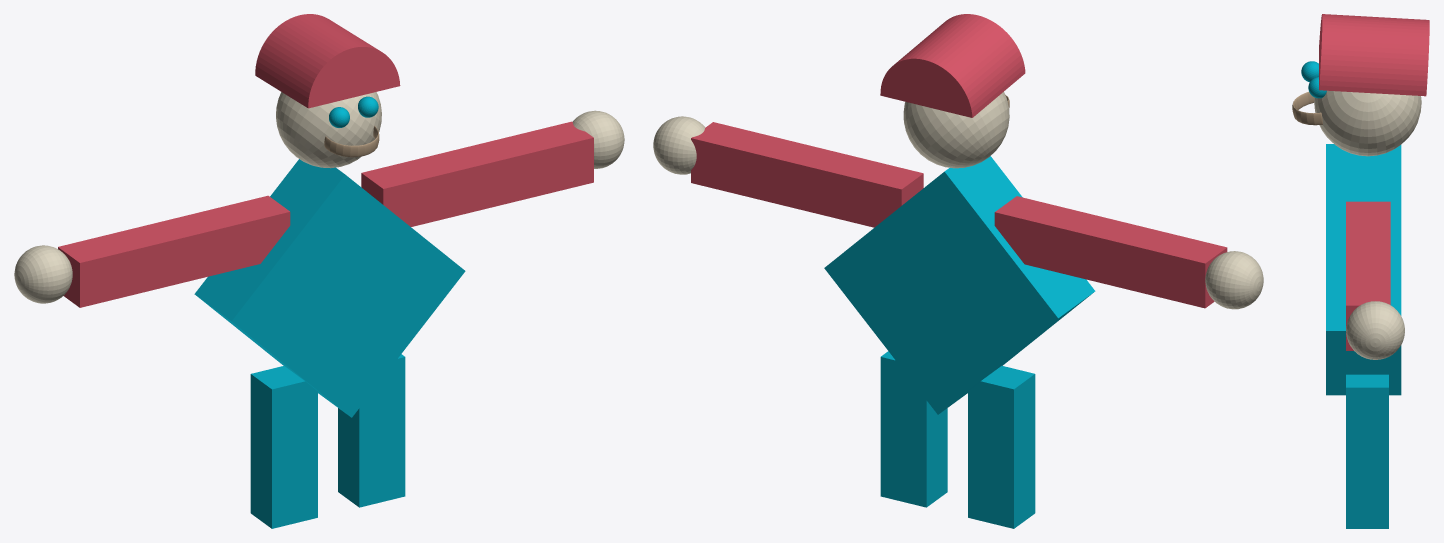
File: Shiny Jofo-Juttuli.glb
3 renders of one model, left to right at view 1: azimuth 30°, elevation 25°; view 2: azimuth 150°, elevation 25°; view 3: azimuth 270°, elevation 25°, orthographic.
Visible parts, largest first — view 1: Mesh_Mesh_head_geo.001_lambert2SG.001; view 2: Mesh_Mesh_head_geo.001_lambert2SG.001; view 3: Mesh_Mesh_head_geo.001_lambert2SG.001.
Part boxes in pixels (x1,y1,x2,y2): Mesh_Mesh_head_geo.001_lambert2SG.001: (14,14,624,528); Mesh_Mesh_head_geo.001_lambert2SG.001: (653,14,1263,528); Mesh_Mesh_head_geo.001_lambert2SG.001: (1292,14,1429,528).
Size of the model in its own units: 131 by 98.22 by 25.58.
